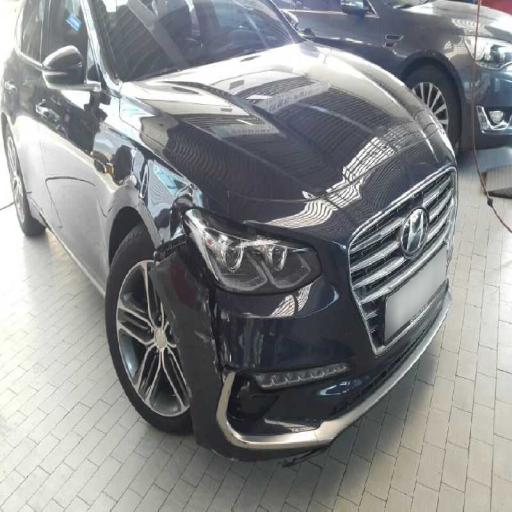broken: (122, 151, 354, 391)
dent: (98, 131, 190, 232)
